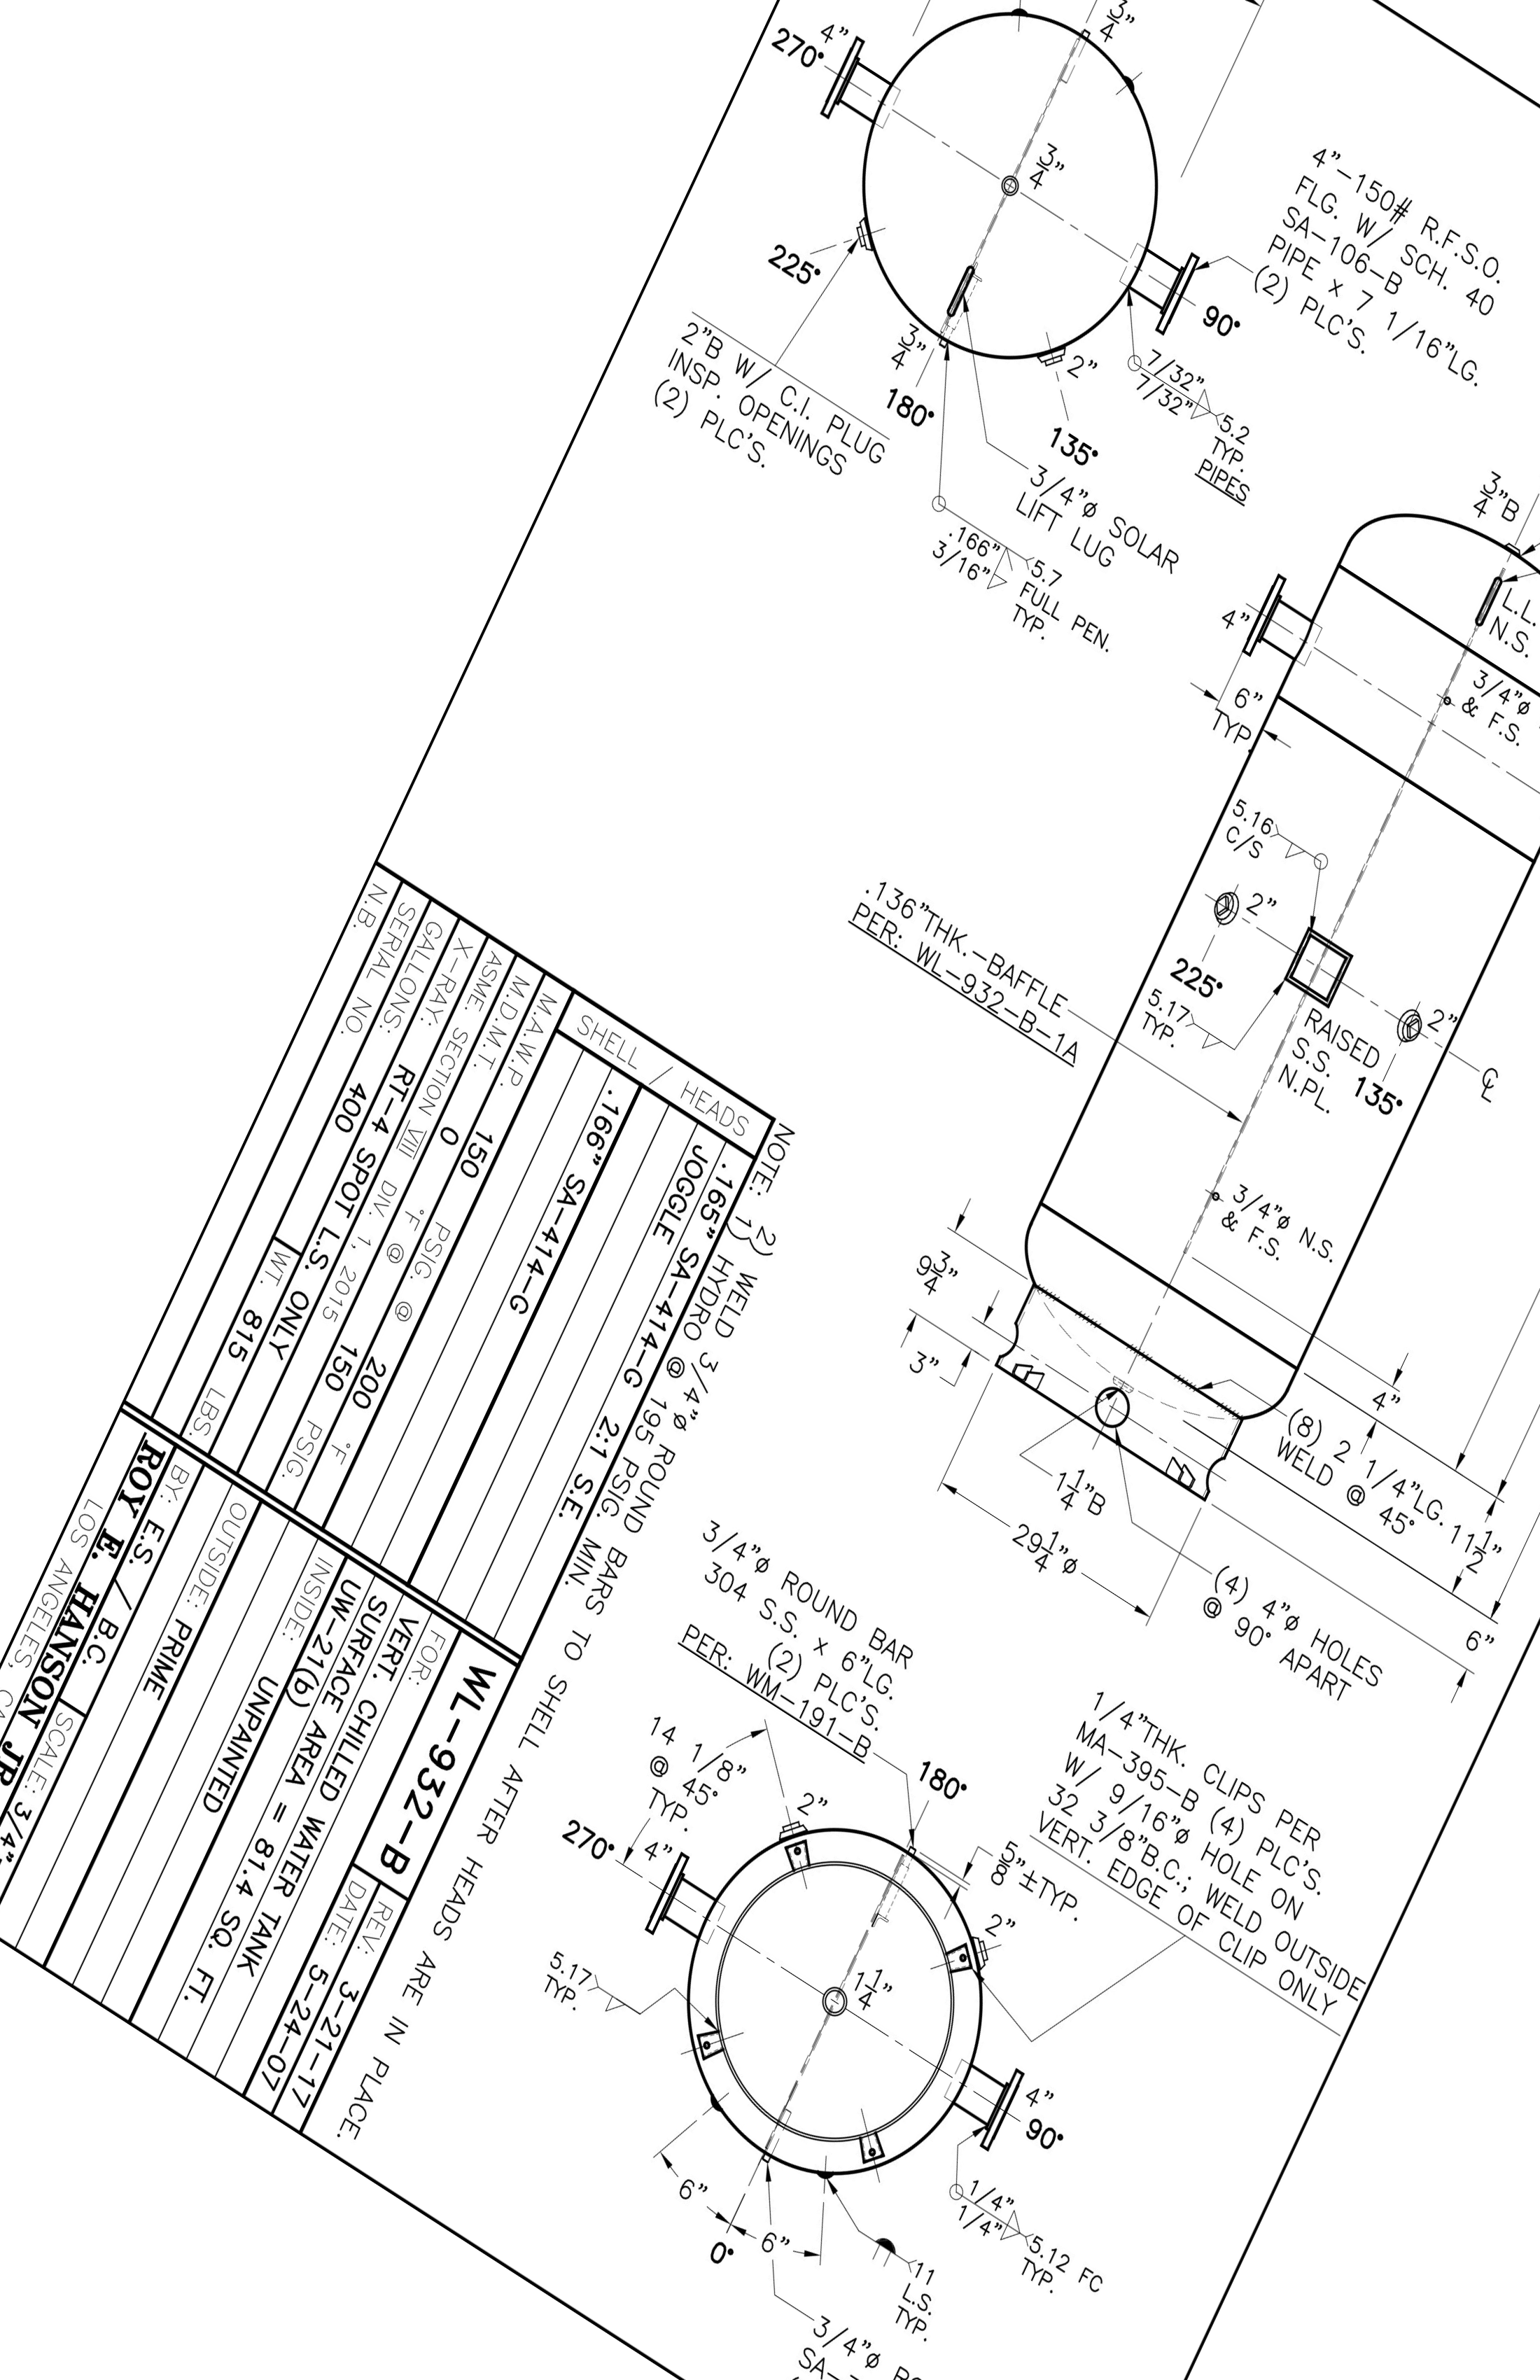Nozzle: (598, 1823, 770, 1955), (786, 12, 919, 149), (1238, 526, 1347, 692), (942, 2019, 1042, 2172), (1134, 205, 1228, 342)
